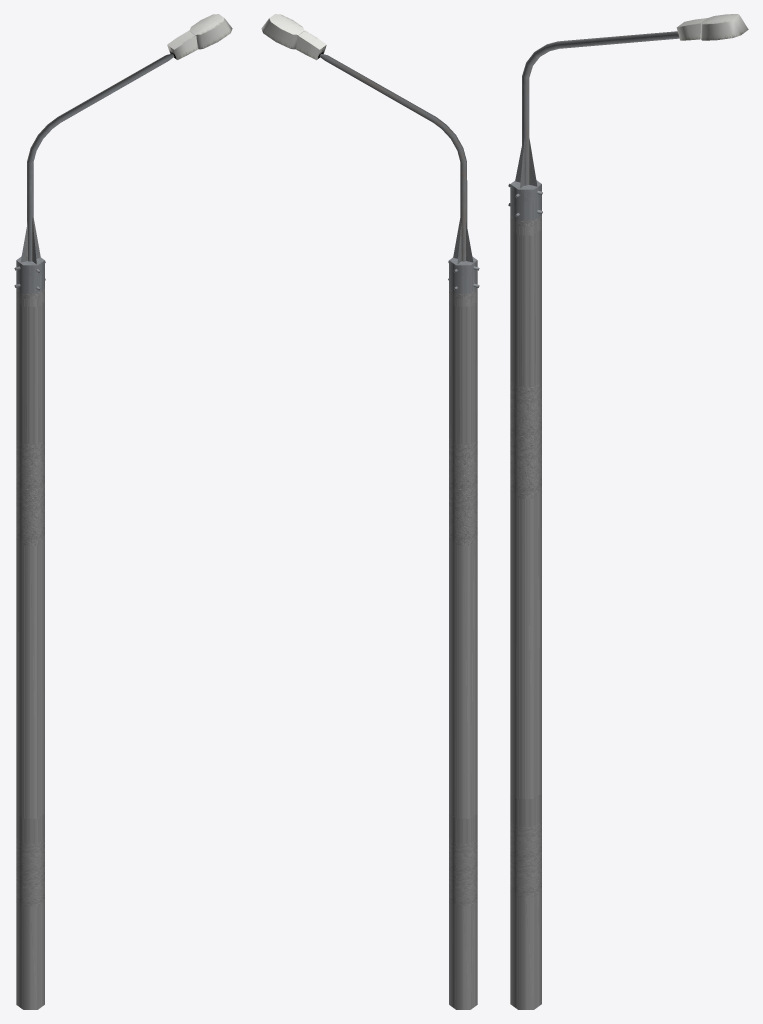
File: zhku16_400_street5.fbx
3 renders of one model, left to right at view 1: azimuth 30°, elevation 25°; view 2: azimuth 150°, elevation 25°; view 3: azimuth 330°, elevation 25°, orthographic. The views are drawn at different scales.
Parts seen in each view (by area): view 1: zhku16_400_street5; view 2: zhku16_400_street5; view 3: zhku16_400_street5.
Boxes of the visible parts, bbox=[...] form: zhku16_400_street5: bbox=[14, 14, 232, 1009]; zhku16_400_street5: bbox=[261, 14, 479, 1009]; zhku16_400_street5: bbox=[508, 14, 748, 1009].
Size of the model in its own units: 2.93 by 12.35 by 0.4069.
